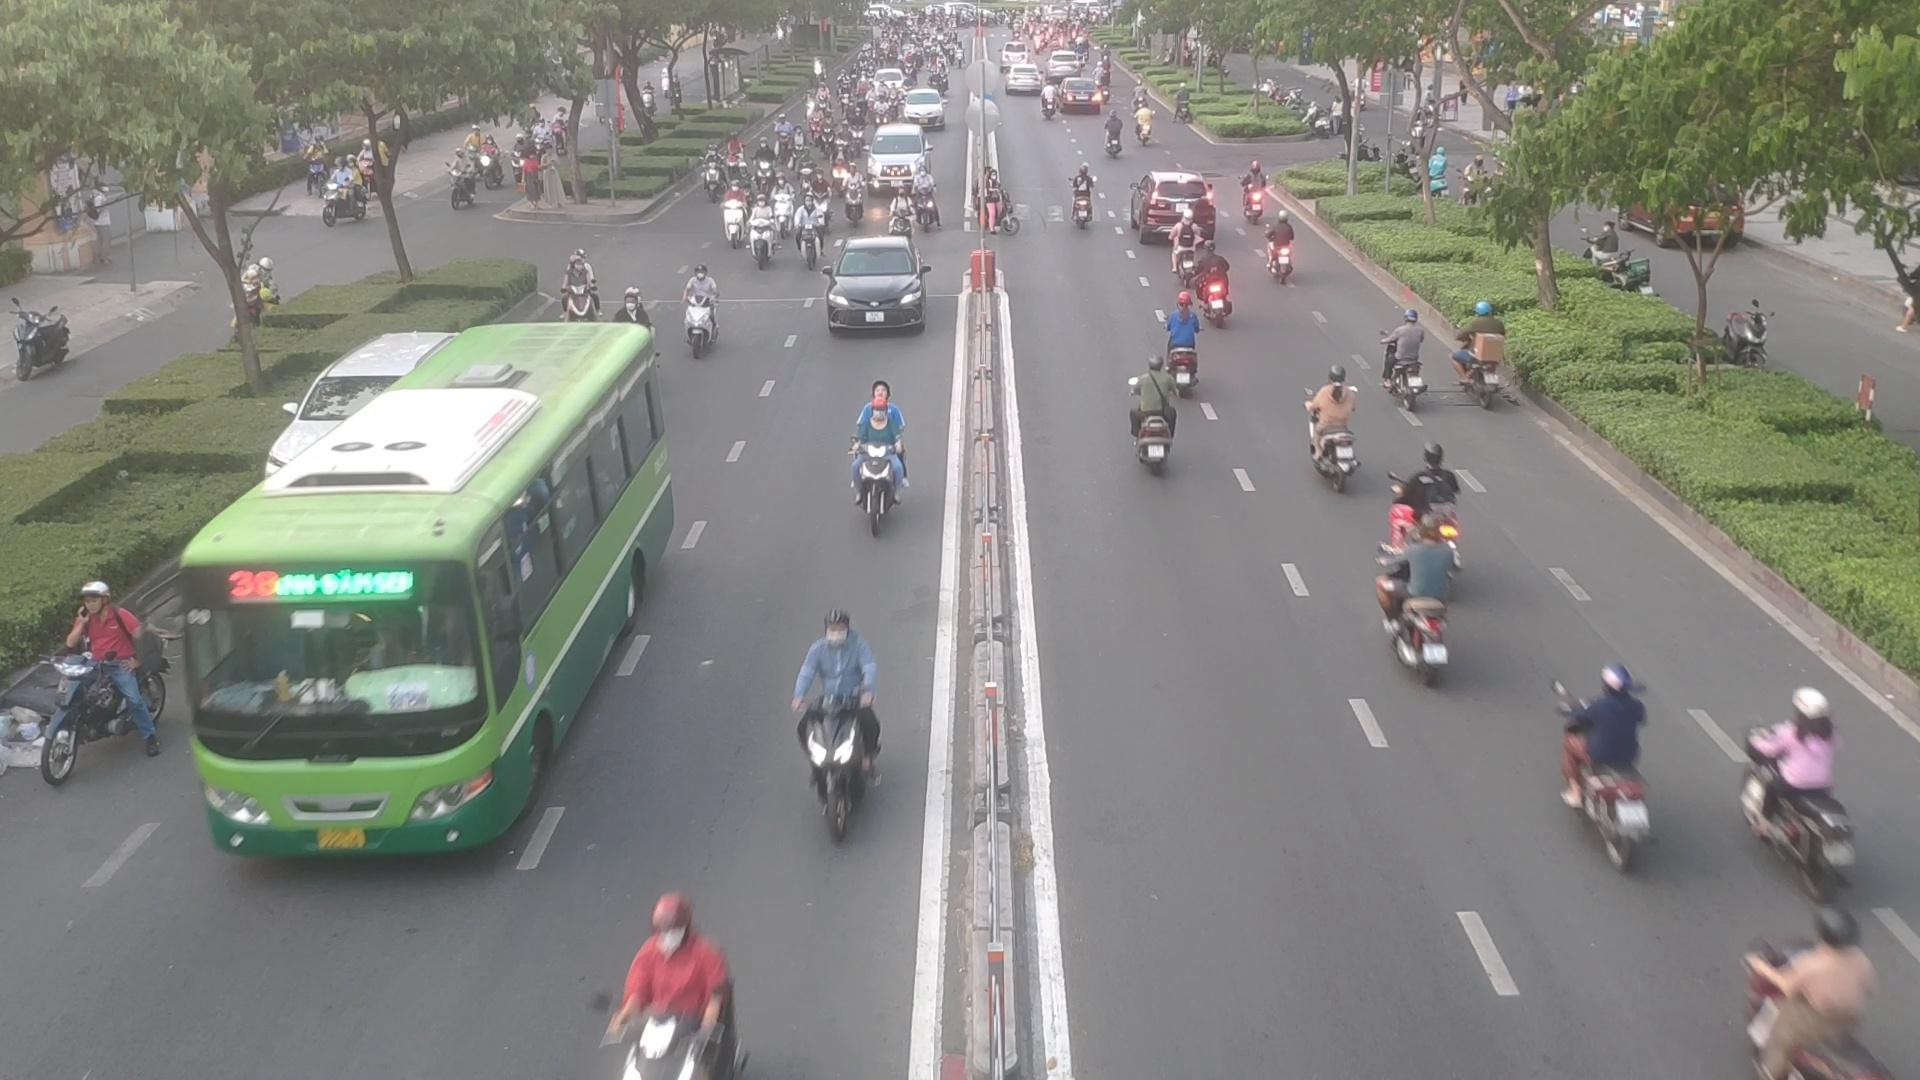bus: (193, 332, 658, 866)
car: (818, 243, 932, 338), (1127, 174, 1220, 248)
motorbike: (1733, 918, 1919, 1077), (40, 568, 164, 785), (591, 920, 738, 1080), (789, 618, 895, 839), (1733, 741, 1859, 890), (1561, 713, 1672, 866), (1375, 508, 1469, 671), (837, 386, 916, 534), (1125, 357, 1189, 473), (1303, 371, 1365, 491), (1377, 311, 1439, 409), (1395, 448, 1472, 518), (1182, 248, 1245, 331), (1457, 297, 1501, 401), (679, 266, 729, 353), (1265, 214, 1304, 285), (742, 204, 782, 269), (1062, 167, 1100, 229), (1240, 154, 1270, 223), (913, 179, 943, 232)
